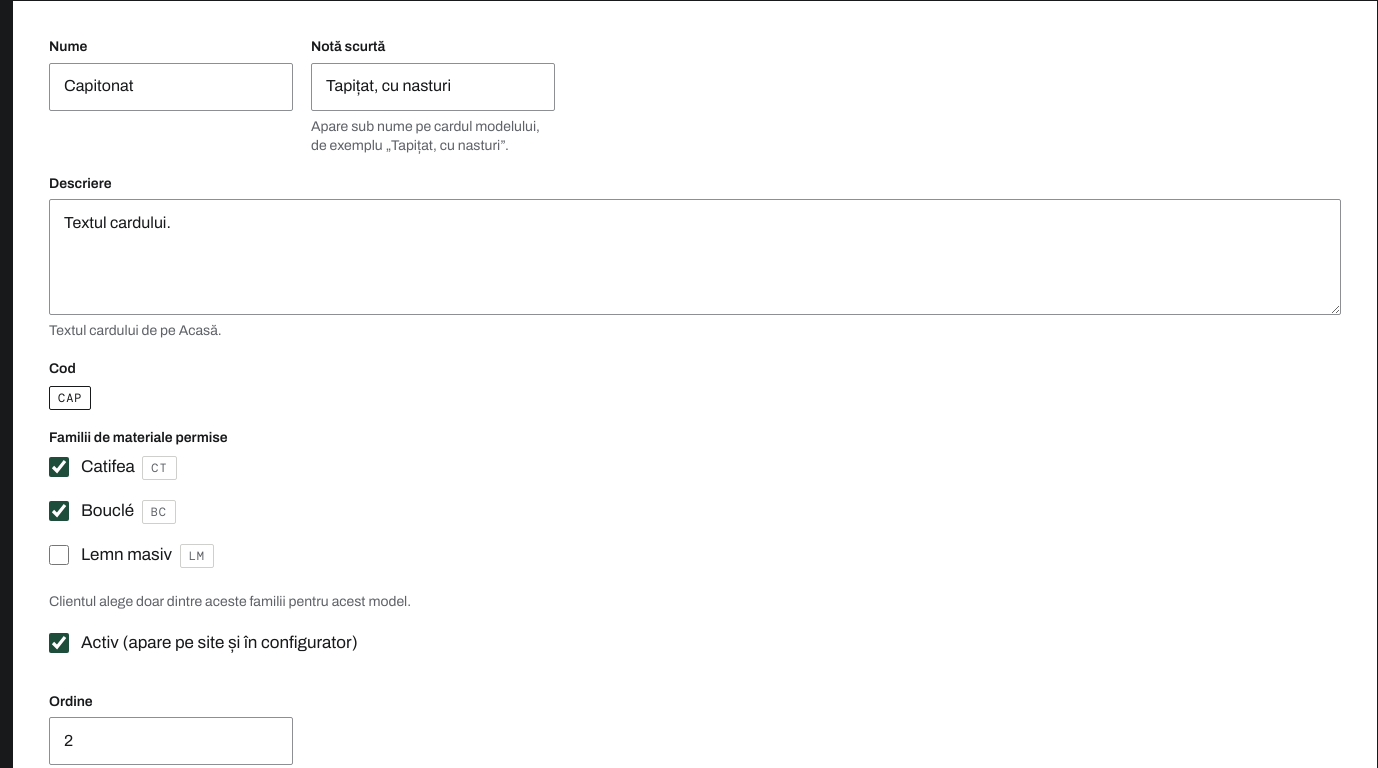
ModelForm › posts the id, the texts, every ticked family and the flags to the action, and shows the saved notice
The image size is (1378, 768).
Replace the text in the field labelled "Nume" with "Capitonat nou": {"x": 171, "y": 87} [49, 63, 293, 111]
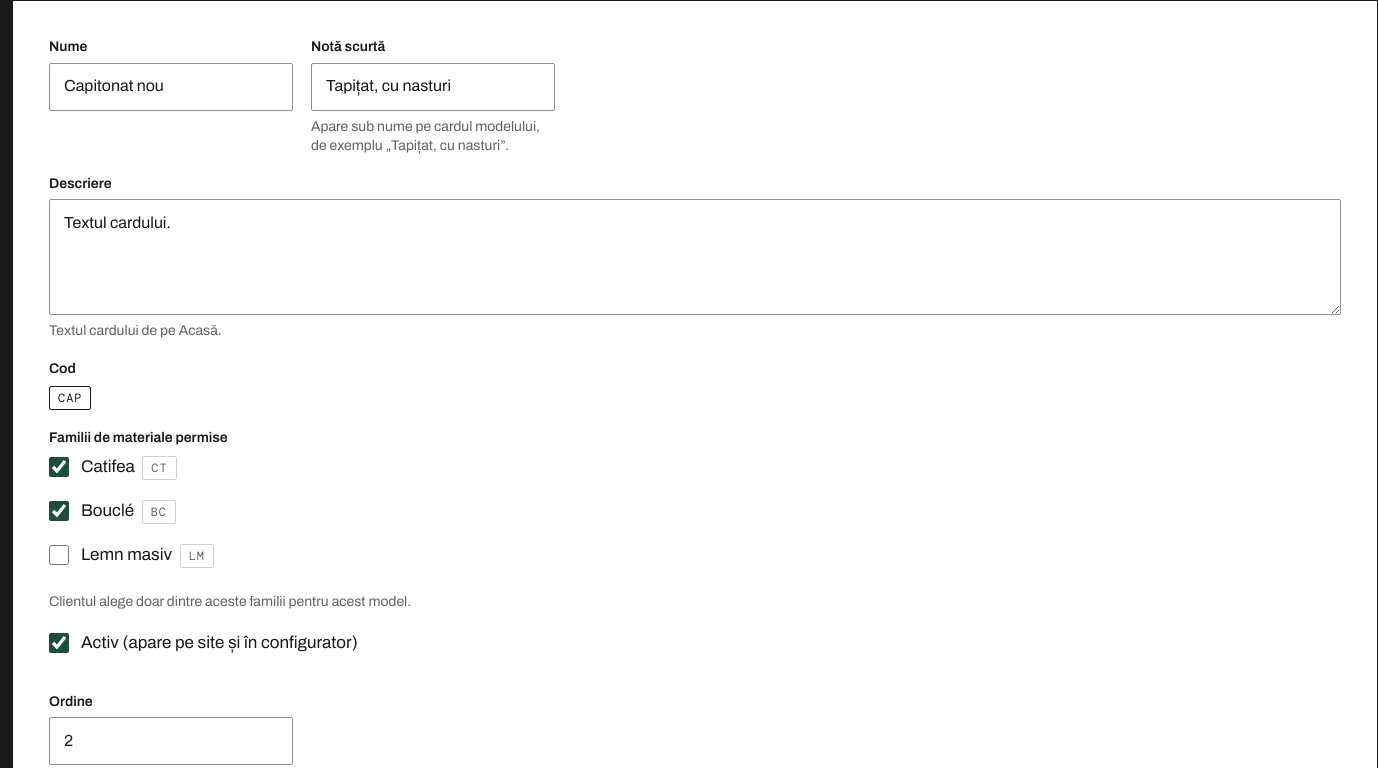
Click the checkbox labelled "Bouclé BC": {"x": 59, "y": 511} [49, 501, 69, 521]
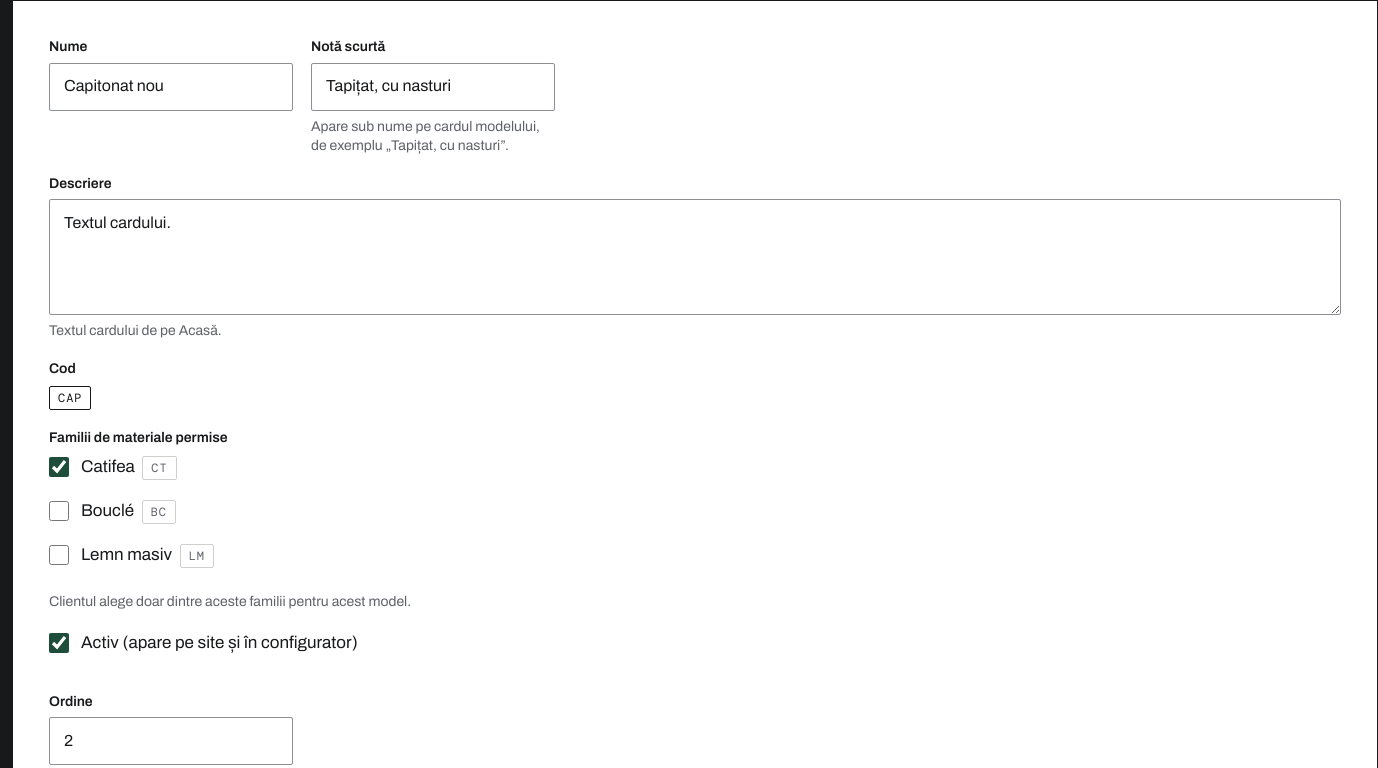
Click the checkbox labelled "Lemn masiv LM": {"x": 59, "y": 555} [49, 545, 69, 565]
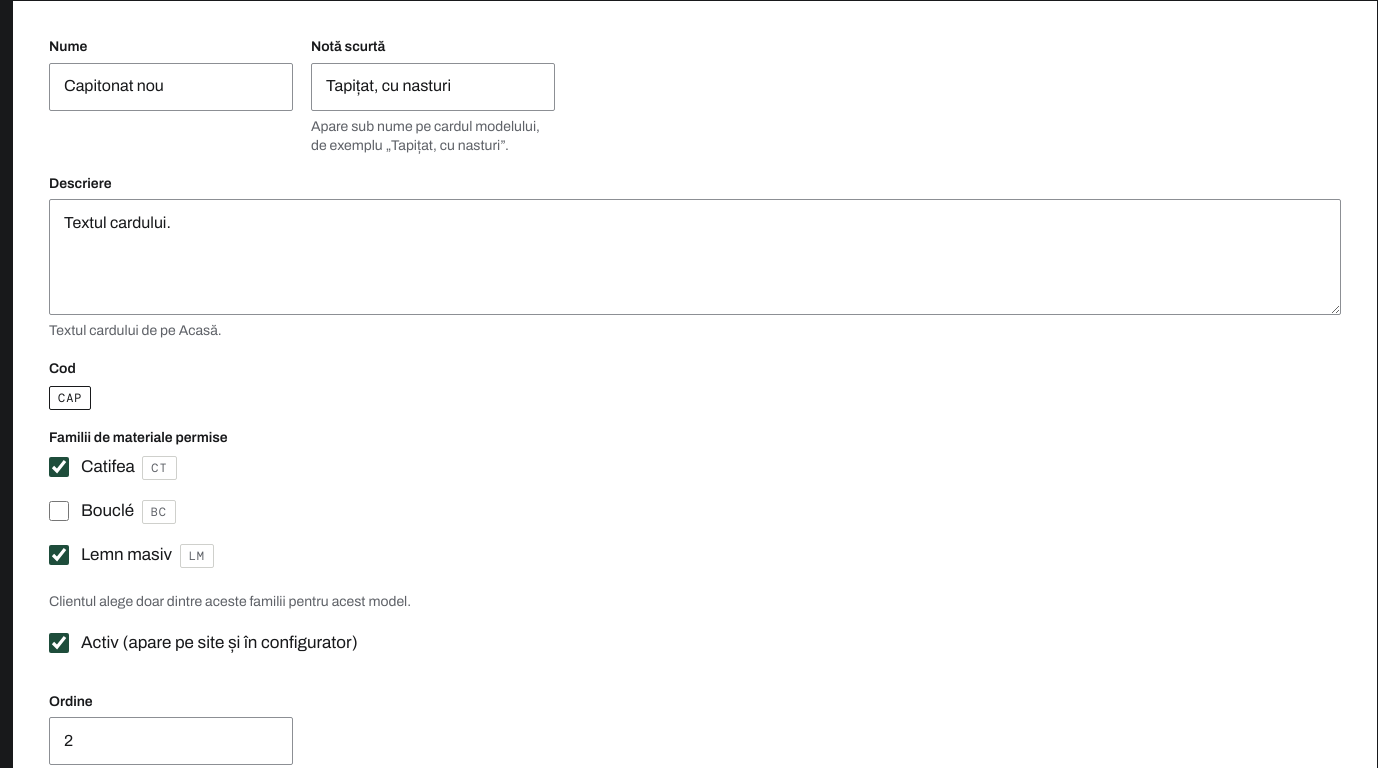
Click the checkbox labelled "Activ (apare pe site și în configurator)": {"x": 59, "y": 643} [49, 633, 69, 653]
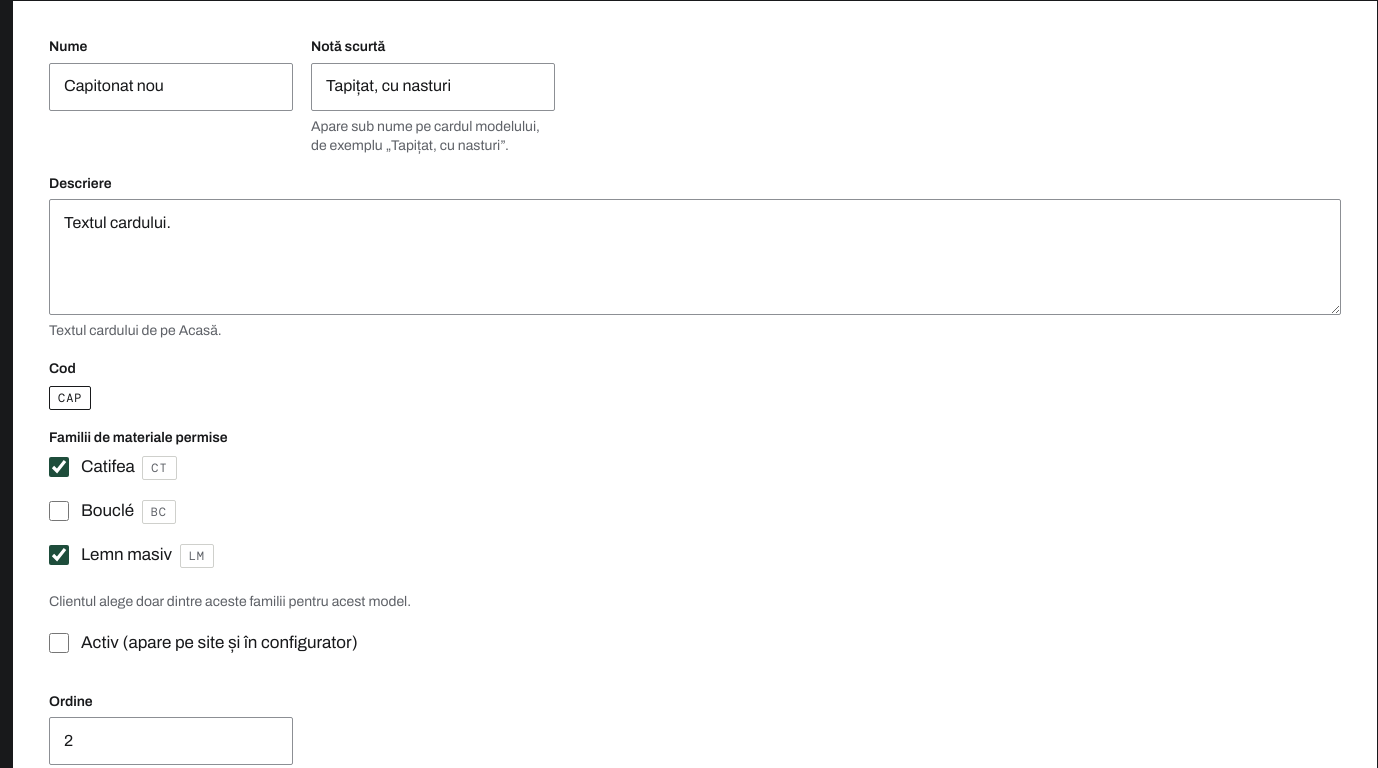
Replace the text in the number field labelled "Ordine" with "5": {"x": 171, "y": 741} [49, 717, 293, 765]
(page scrolled)
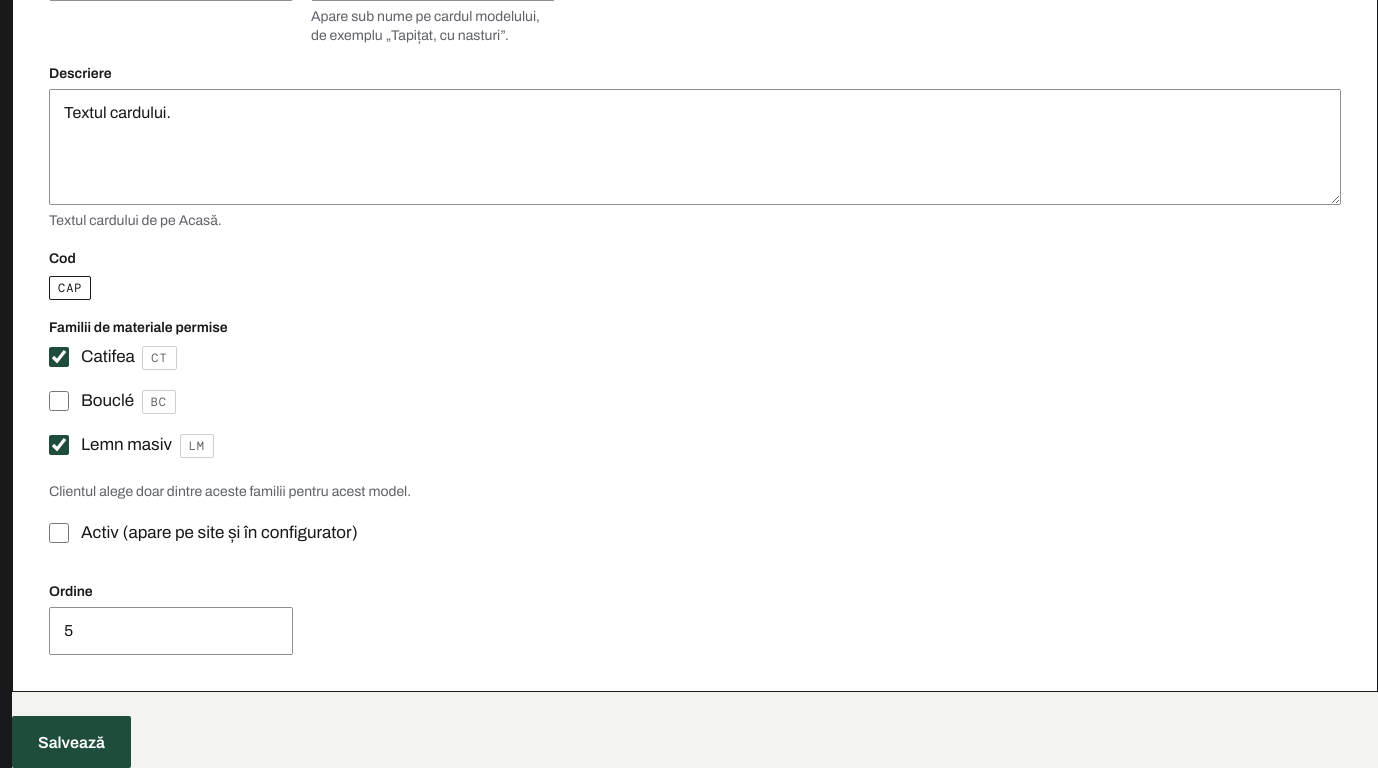
Click the button "Salvează": {"x": 72, "y": 742} [12, 716, 131, 767]
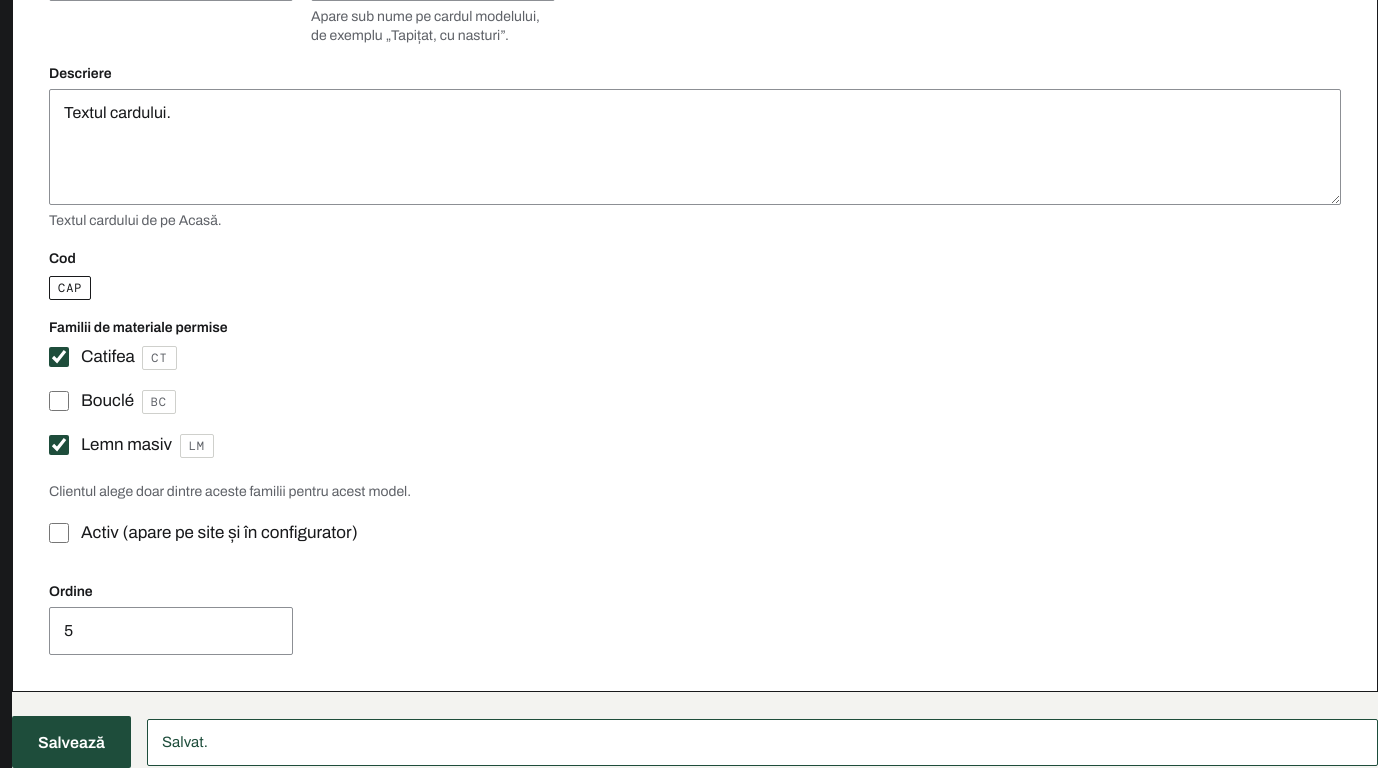
Now the checkbox labelled "Lemn masiv LM" is checked, box [49, 435, 69, 455]
Now the message reads "Salvat.", box [162, 734, 208, 750]
